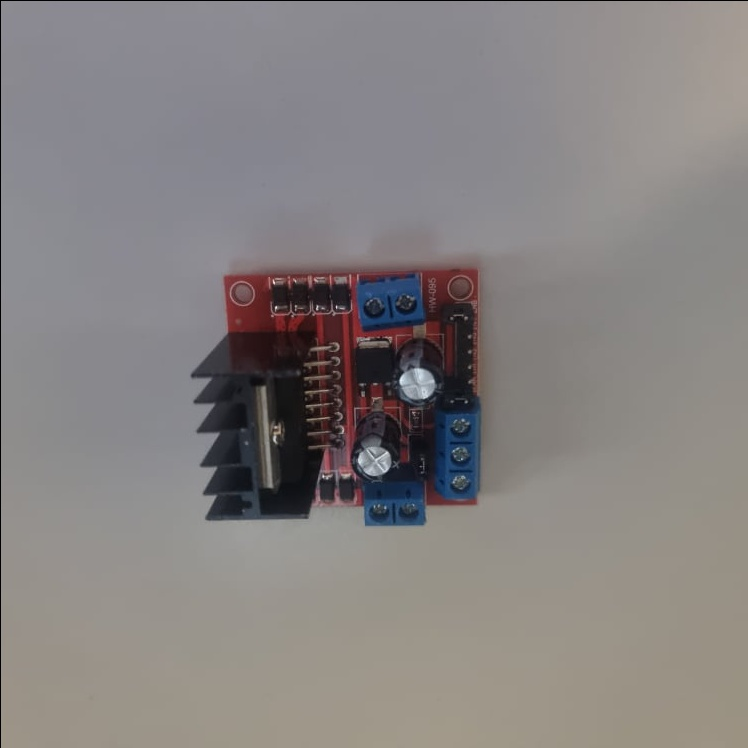MOTOR: (184, 271, 482, 526)
